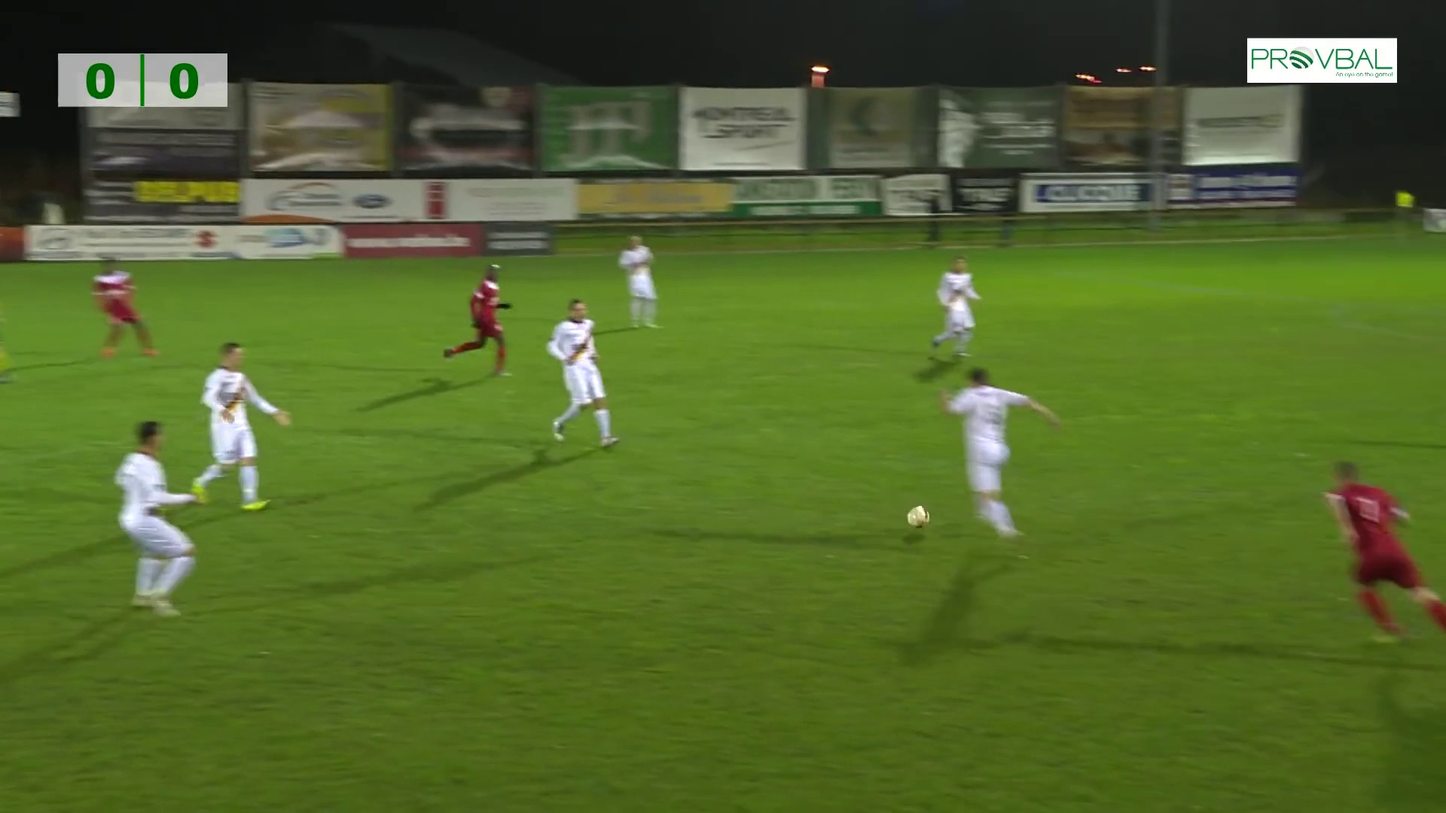red_team: (1310, 455, 1440, 641), (442, 260, 516, 377), (88, 257, 161, 359)
white_team: (941, 364, 1063, 551), (112, 416, 211, 618), (185, 339, 293, 522), (544, 300, 621, 449), (927, 255, 990, 358), (613, 234, 667, 336)
